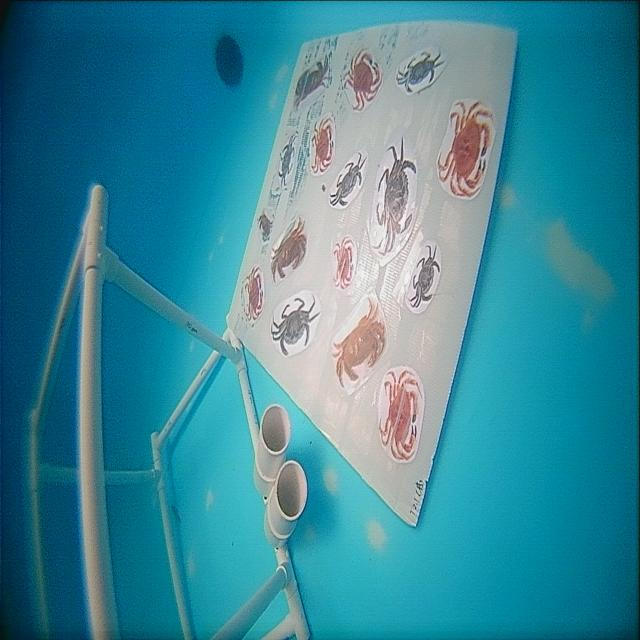GreenCrab: (376, 138, 416, 254), (272, 298, 319, 356), (330, 152, 366, 207), (409, 246, 440, 308)
